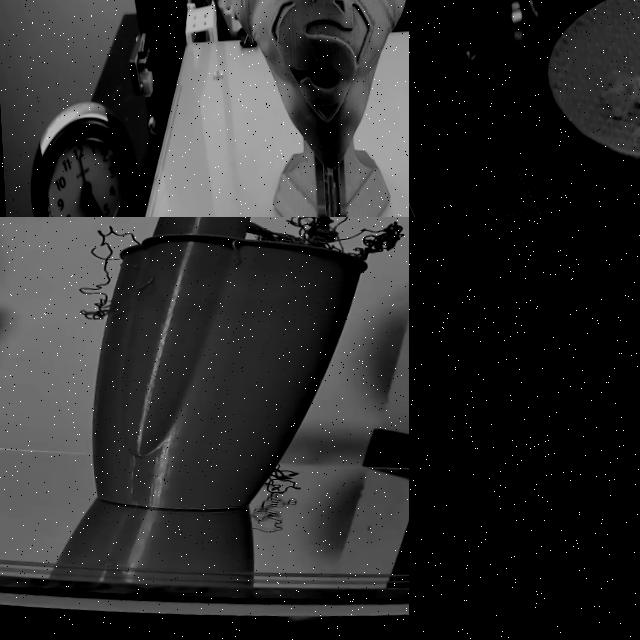spaghetti: (206, 217, 409, 268), (52, 217, 144, 315), (236, 217, 360, 255), (263, 455, 316, 503)
